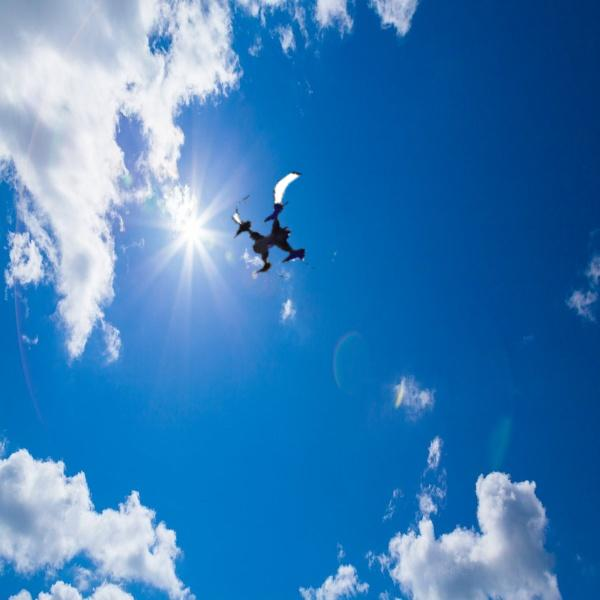drone: (228, 177, 343, 292)
